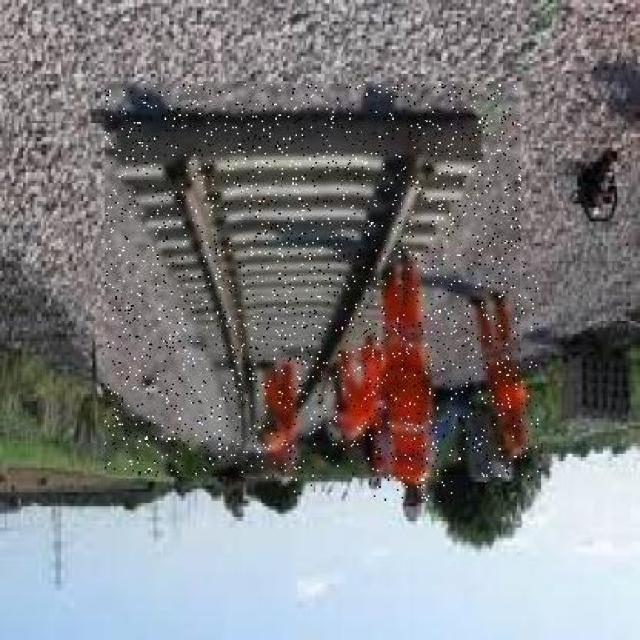rail: (106, 86, 521, 476)
